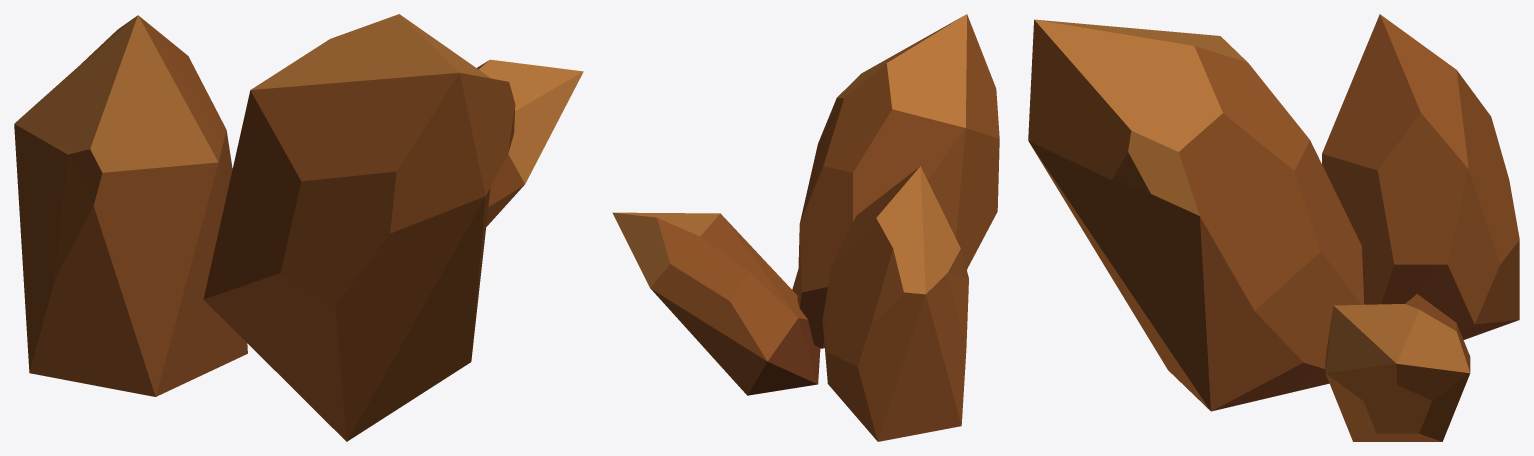
Rendered from CopperRock.glb.
The picture shows the model from 3 angles, left to right: view 1: azimuth 30°, elevation 25°; view 2: azimuth 150°, elevation 25°; view 3: azimuth 270°, elevation 25°; orthographic projection. The views are drawn at different scales.
Parts seen in each view (by area): view 1: Icosphere.002; view 2: Icosphere.002; view 3: Icosphere.002.
Boxes of the visible parts, x1=… form: Icosphere.002: x1=14, y1=14, x2=583, y2=441; Icosphere.002: x1=612, y1=14, x2=999, y2=441; Icosphere.002: x1=1028, y1=14, x2=1519, y2=441.
Size of the model in its own units: 1.4 by 1.1 by 1.25.
